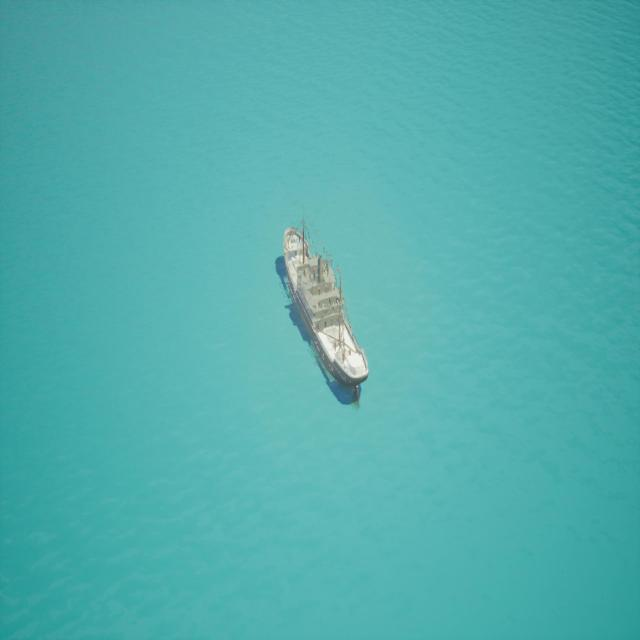fishing ship: (277, 217, 370, 408)
